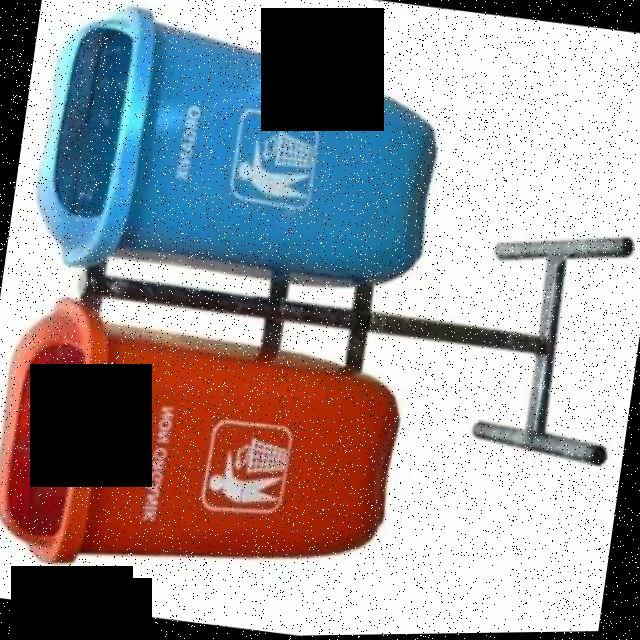bin: (4, 0, 514, 348), (0, 290, 471, 640)
